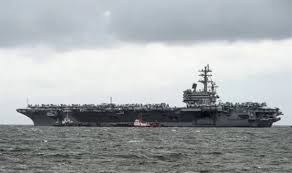tau_muctieu: (12, 74, 283, 129)
